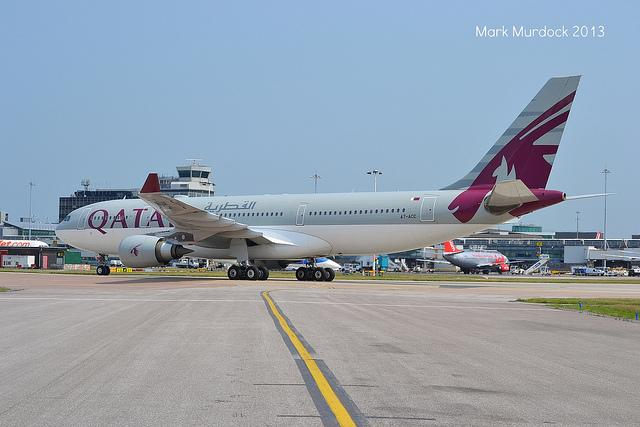airplane: (52, 72, 619, 283), (415, 238, 527, 275)
